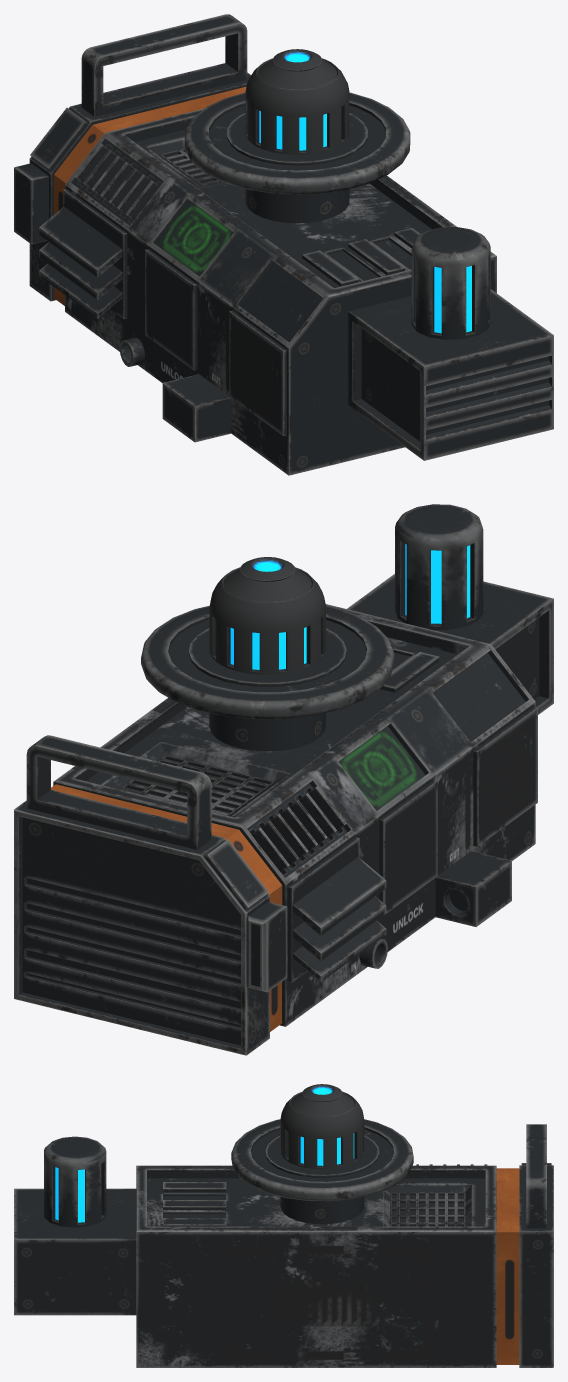
Rendered from scifi_style_generator 1.glb.
The picture shows the model from 3 angles, top to bottom: view 1: azimuth 30°, elevation 25°; view 2: azimuth 150°, elevation 25°; view 3: azimuth 270°, elevation 25°; orthographic projection. The views are drawn at different scales.
Parts seen in each view (by area): view 1: generator; view 2: generator; view 3: generator.
Part boxes in pixels (x1,y1,x2,y2): generator: [14, 14, 553, 475]; generator: [14, 504, 553, 1055]; generator: [14, 1084, 553, 1367].
Size of the model in its own units: 2.49 by 2.8 by 5.58.
1 material, 1 textured.
